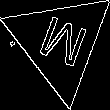M_S: (31, 11, 89, 74)
